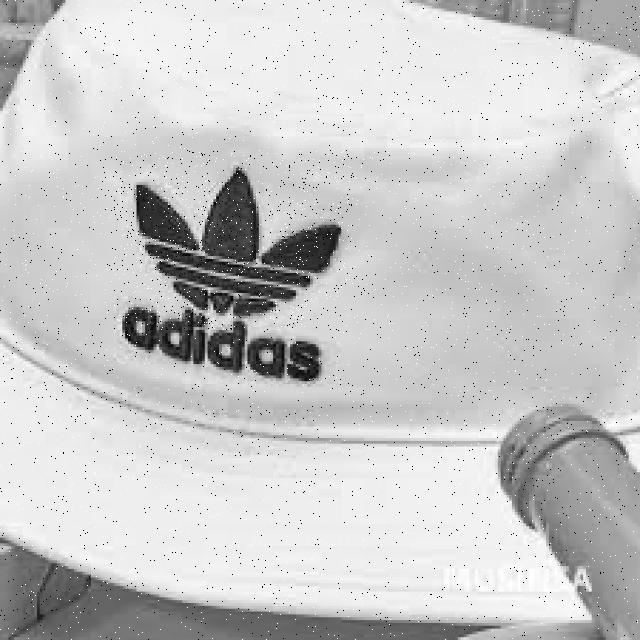Adidas: (114, 151, 353, 330)
